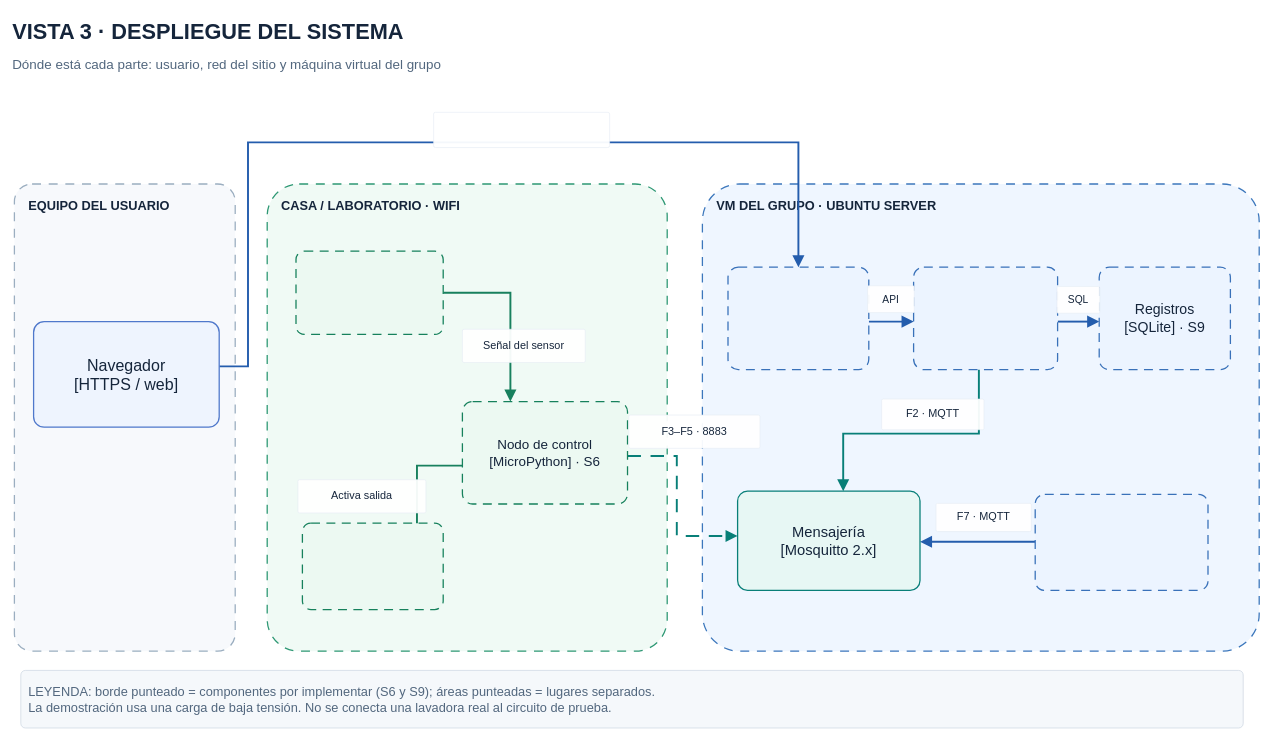
The diagram is 1276 pixels wide and 739 high, and some of its shapes have lost their labels. The shapes that lost their labels are listed below. From the top down, each one's box as (x1, y1, x2, y2) in pixels, then its label:
(433, 112, 610, 148): F1 · HTTPS / 443
(295, 250, 444, 335): Medición de uso [Sensor de corriente] S6
(727, 266, 869, 370): Acceso HTTPS [Nginx] · S9
(913, 266, 1058, 370): API de control [Python] · S9
(1034, 493, 1208, 591): Panel [Node-RED] · S9
(301, 522, 444, 610): Salida de prueba [LED / GPIO] · S6
